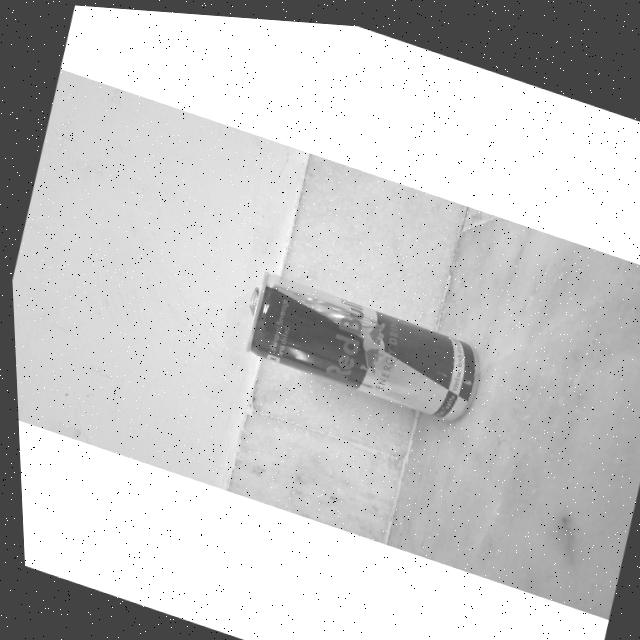Redbull: (228, 252, 503, 439)
